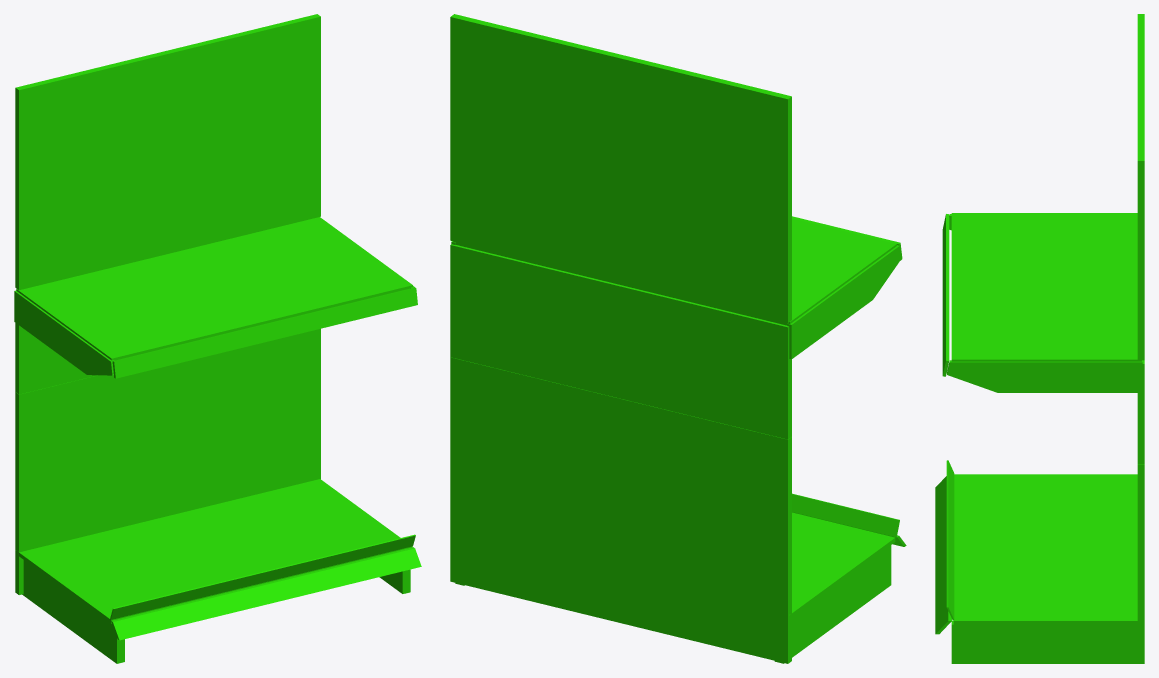
The model's file is Shop_Shelf_A_05_Lod0.fbx.
3 views of the same model, side by side, from view 1: azimuth 30°, elevation 25°; view 2: azimuth 150°, elevation 25°; view 3: azimuth 270°, elevation 25° (orthographic). The views are drawn at different scales.
Parts seen in each view (by area): view 1: Shop_Shelf_A_05_Lod0; view 2: Shop_Shelf_A_05_Lod0; view 3: Shop_Shelf_A_05_Lod0.
Boxes of the visible parts, bbox=[...] form: Shop_Shelf_A_05_Lod0: bbox=[14, 14, 421, 663]; Shop_Shelf_A_05_Lod0: bbox=[450, 14, 906, 663]; Shop_Shelf_A_05_Lod0: bbox=[935, 14, 1144, 663].
Size of the model in its own units: 135 by 215 by 80.82.
